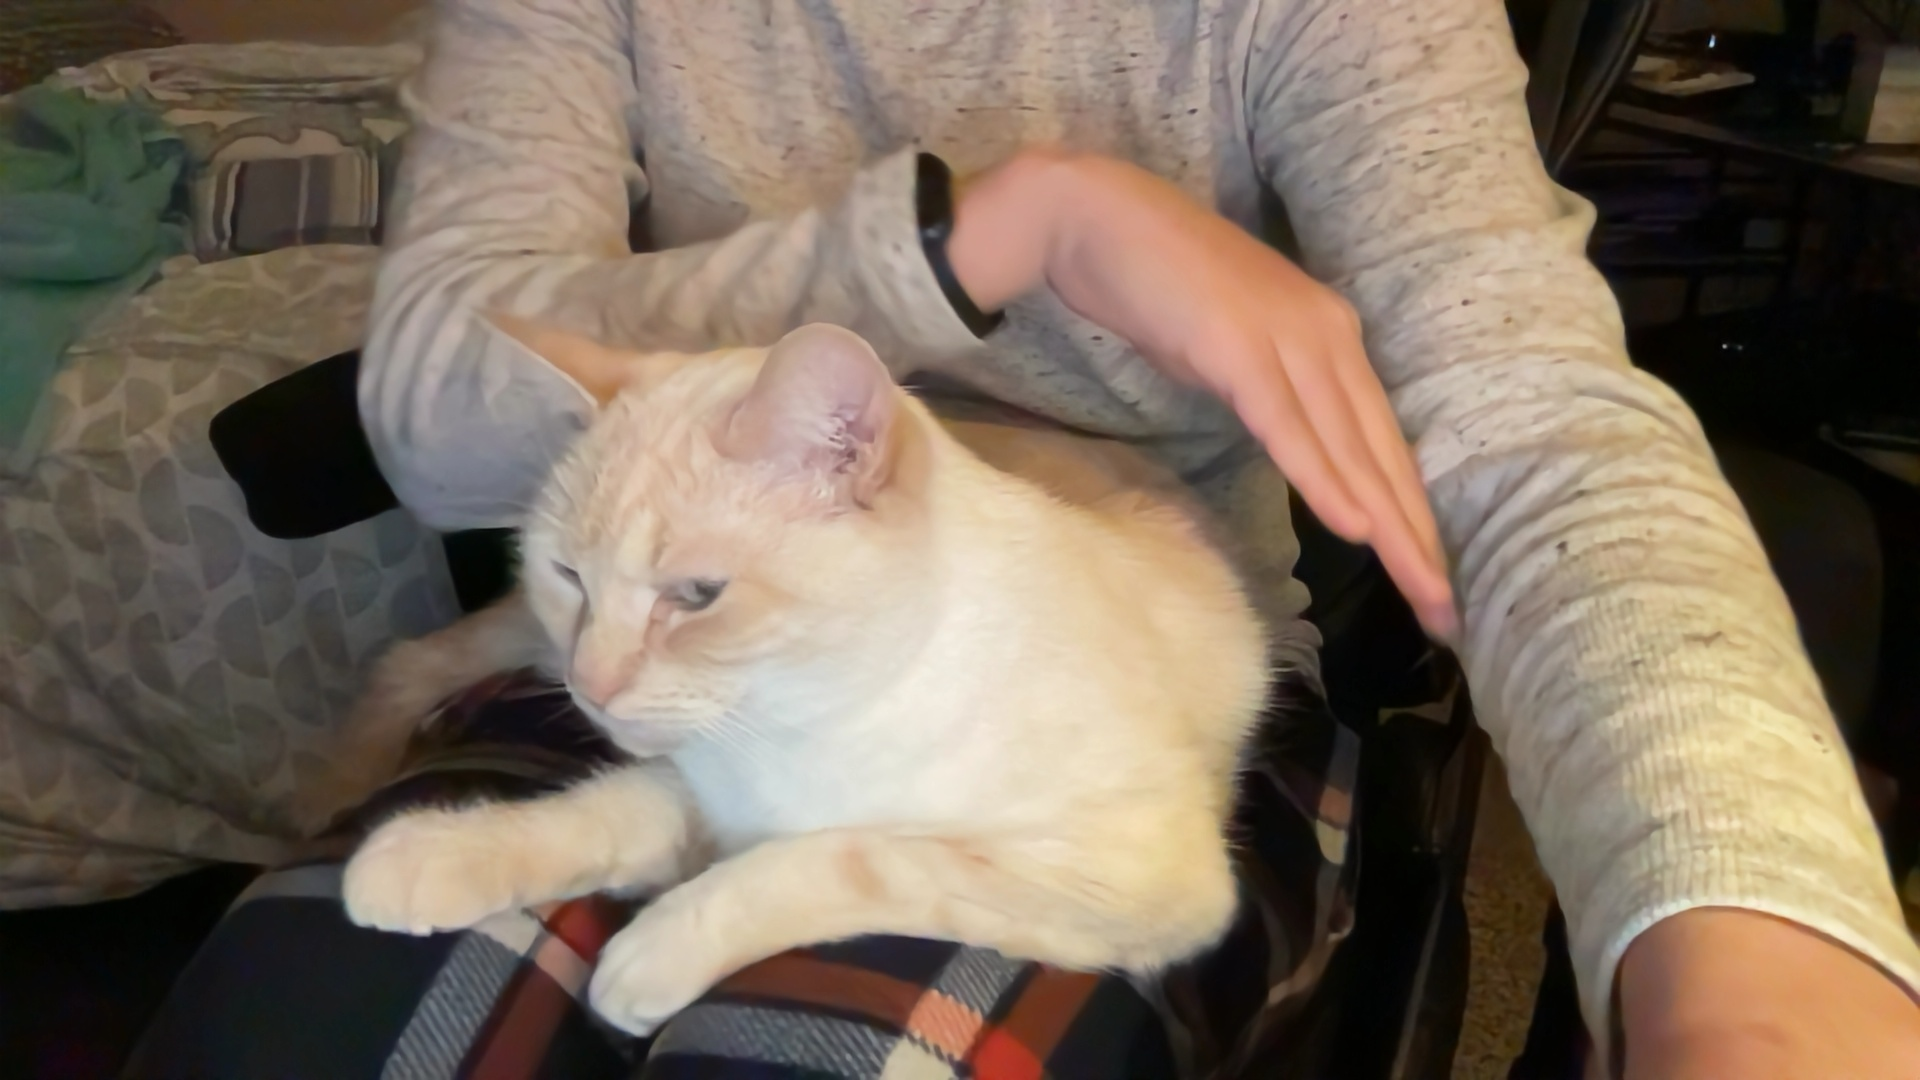cat: (309, 295, 1292, 1054)
